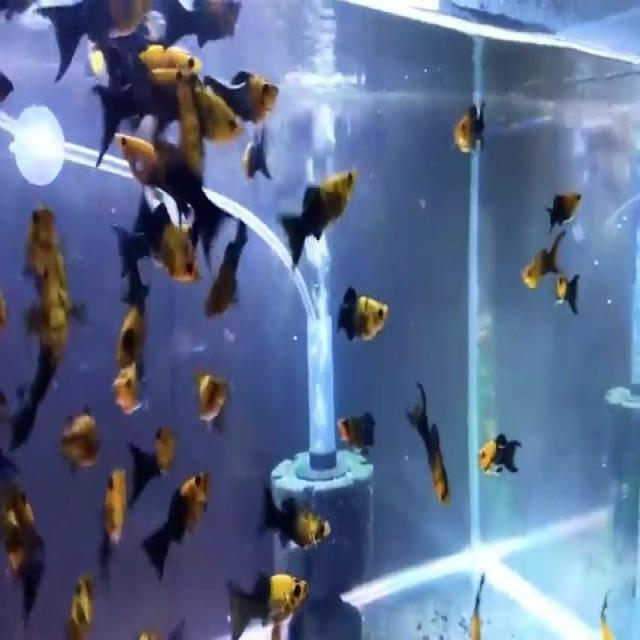PlatyFish: (274, 154, 361, 282), (133, 457, 215, 591), (215, 561, 315, 640), (253, 477, 334, 552), (329, 273, 398, 358), (469, 415, 526, 484), (514, 229, 564, 299)
